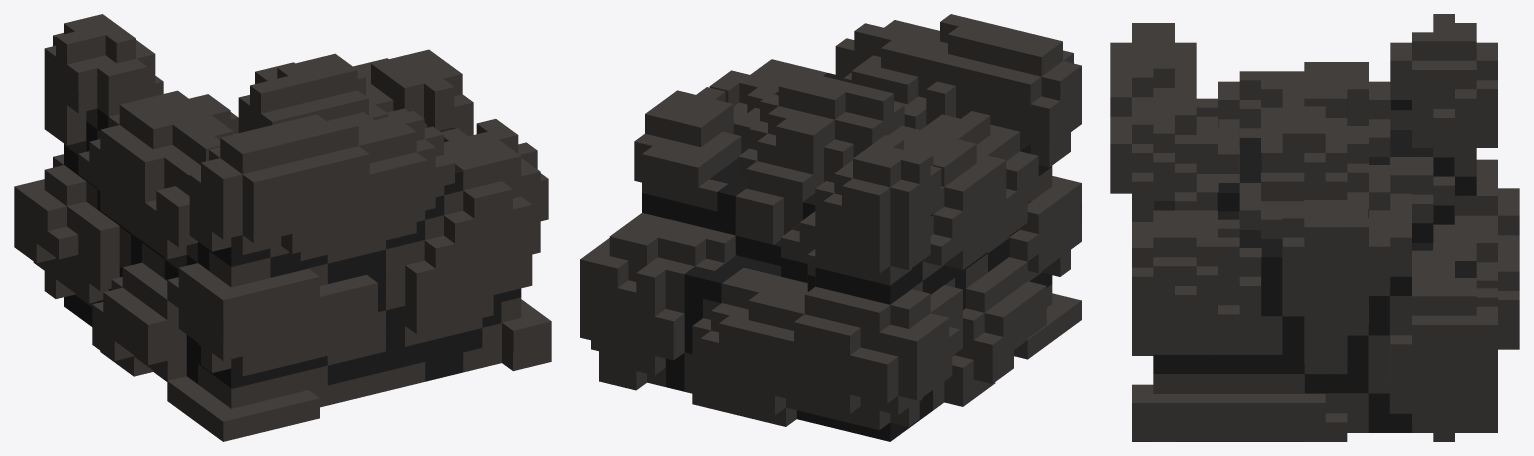
The model's file is Column_2.fbx.
3 renders of one model, left to right at view 1: azimuth 30°, elevation 25°; view 2: azimuth 150°, elevation 25°; view 3: azimuth 270°, elevation 25°, orthographic. The views are drawn at different scales.
Visible parts, largest first — view 1: Column_2; view 2: Column_2; view 3: Column_2.
Part boxes in pixels (<box>): Column_2: <box>14,14,551,441</box>; Column_2: <box>580,14,1081,441</box>; Column_2: <box>1110,14,1519,441</box>.
Size of the model in its own units: 190 by 140 by 190.
1 material, 1 textured.
